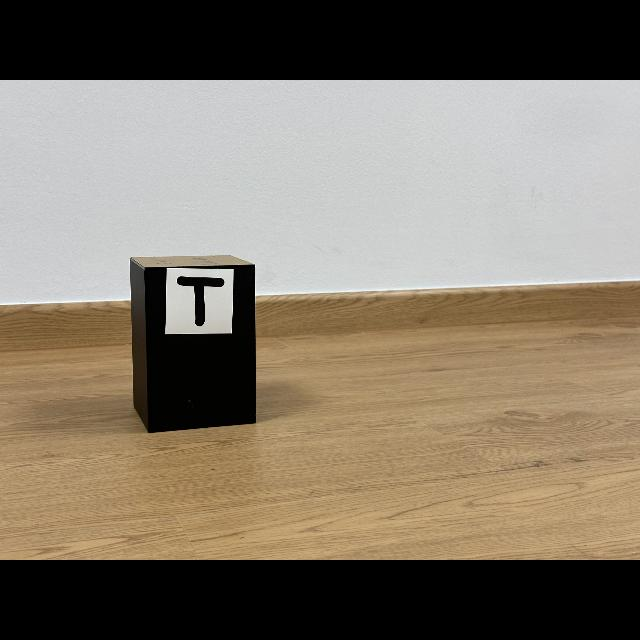T: (176, 276, 225, 326)
